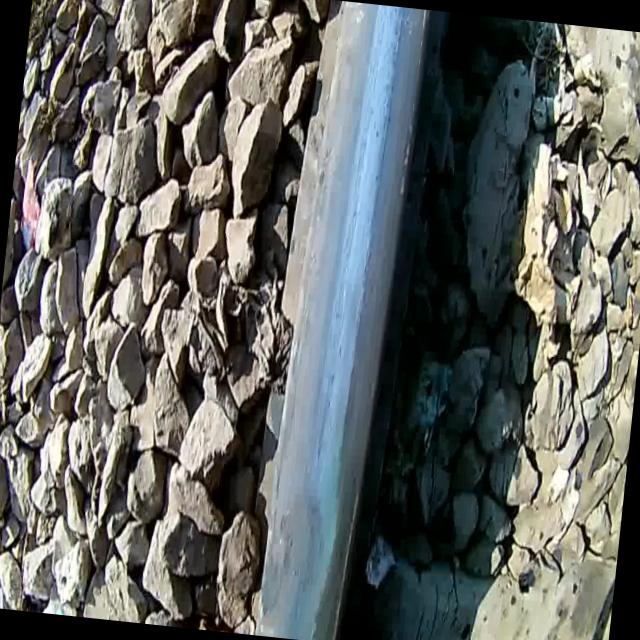Squats: (253, 483, 334, 640)
